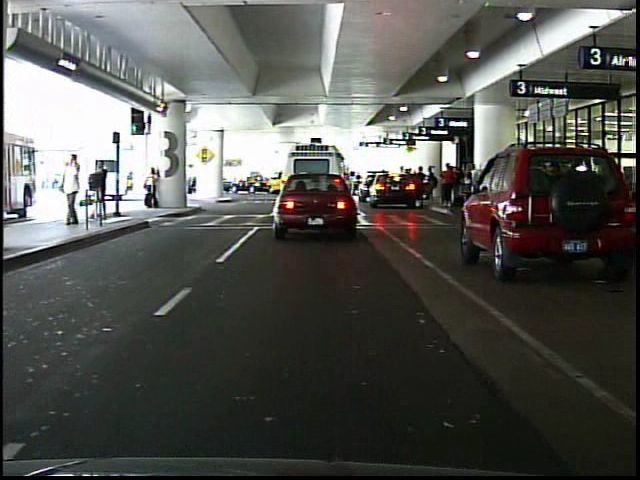person: (59, 150, 86, 231), (91, 157, 111, 223), (146, 165, 165, 210), (440, 161, 456, 209), (188, 164, 206, 203)
